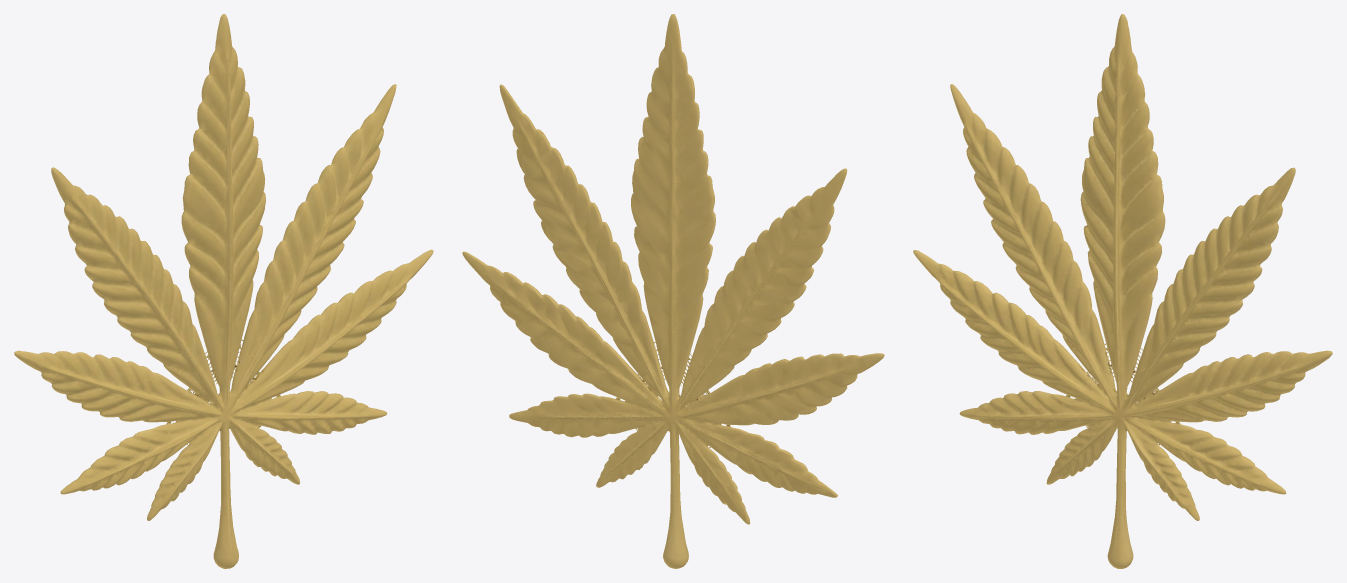
File: leaf.glb
The picture shows the model from 3 angles, left to right: view 1: azimuth 30°, elevation 25°; view 2: azimuth 150°, elevation 25°; view 3: azimuth 330°, elevation 25°; orthographic projection.
Visible parts, largest first — view 1: Mesh_0; view 2: Mesh_0; view 3: Mesh_0.
Boxes of the visible parts, x1,y1,x2,y2 form: Mesh_0: [14, 14, 433, 568]; Mesh_0: [462, 14, 884, 568]; Mesh_0: [913, 14, 1332, 568].
Bounding box in the file's own units: 1.52 × 1.91 × 0.0807.
Materials: 1 (1 with a texture image).
